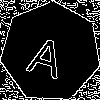A: (26, 27, 70, 80)
